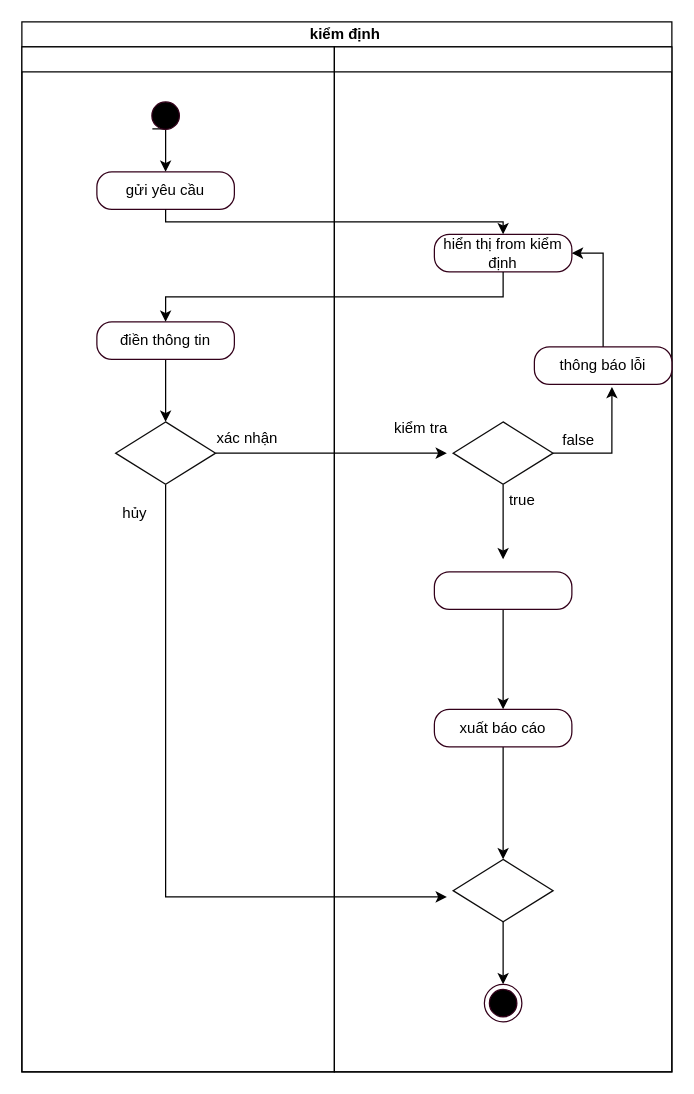
This 694x1094 diagram has some shape labels left out. The box of each missing label's shape, as (x1, y1, x2, y2) in pixels:
hệ thống: (333, 46, 672, 1072)
người dùng: (21, 46, 334, 1072)
thực hiện kiểm định: (433, 571, 572, 609)
